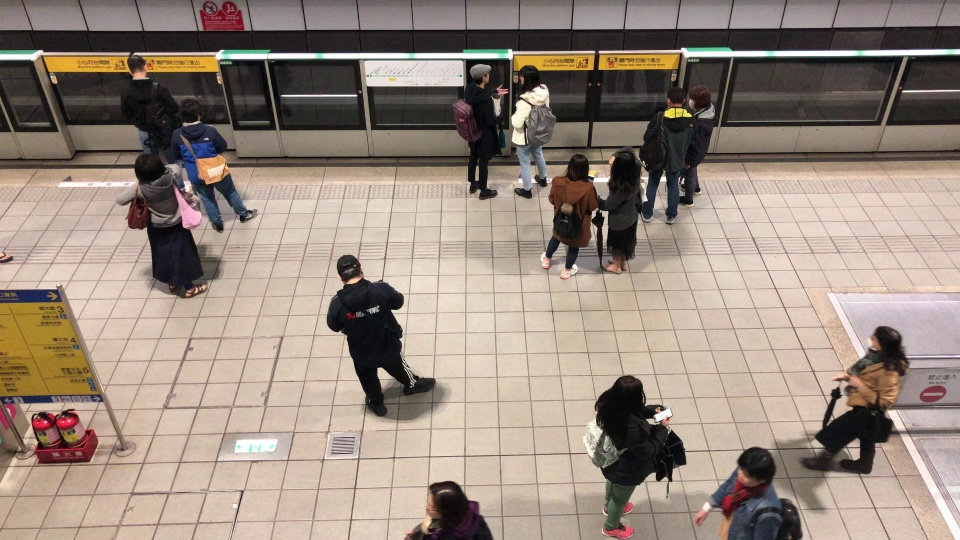person_head: (422, 480, 471, 525), (735, 444, 778, 489), (862, 325, 905, 356), (131, 152, 168, 183), (615, 373, 644, 410), (336, 254, 366, 284), (611, 150, 637, 184), (689, 83, 712, 114), (177, 98, 203, 125), (516, 64, 541, 89), (568, 153, 589, 181), (468, 62, 492, 86), (126, 54, 148, 80), (664, 85, 687, 107)
person_vbox: (327, 253, 437, 417), (798, 325, 910, 477), (582, 375, 672, 538), (115, 154, 207, 298), (170, 96, 259, 232), (694, 447, 804, 540), (640, 86, 699, 225), (537, 152, 599, 279), (452, 62, 509, 200), (120, 53, 180, 166), (511, 65, 557, 199), (595, 146, 643, 274), (404, 479, 494, 540), (678, 84, 717, 208)
